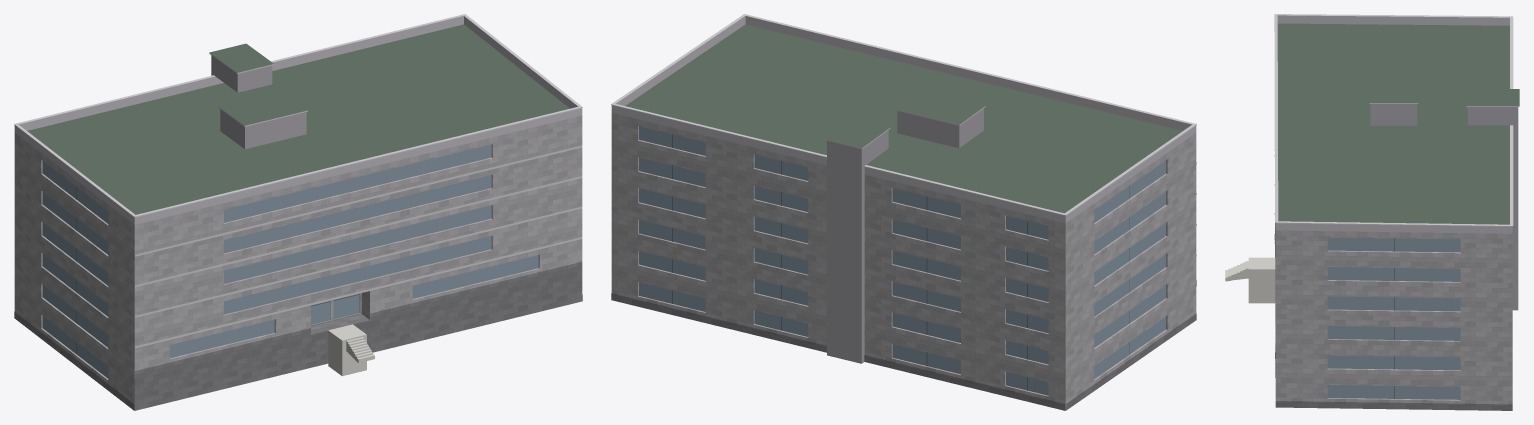
3 views of the same model, side by side, from view 1: azimuth 30°, elevation 25°; view 2: azimuth 150°, elevation 25°; view 3: azimuth 270°, elevation 25° (orthographic). The views are drawn at different scales.
Visible parts, largest first — view 1: b105__wall, b105__roof, b105__glass, b105__base, b105__parapet, b105__trim, b105__wall2, b105__entranceStair; view 2: b105__wall, b105__roof, b105__glass, b105__wall2, b105__parapet, b105__base, b105__trim; view 3: b105__roof, b105__wall, b105__glass, b105__parapet, b105__wall2, b105__trim, b105__base, b105__entranceStair.
Part boxes in pixels (left/top/right/bottom): b105__wall: left=14, top=115, right=582, bottom=410; b105__roof: left=27, top=24, right=580, bottom=410; b105__glass: left=42, top=144, right=538, bottom=378; b105__base: left=14, top=261, right=582, bottom=410; b105__parapet: left=14, top=16, right=582, bottom=224; b105__trim: left=14, top=14, right=582, bottom=348; b105__wall2: left=211, top=55, right=306, bottom=149; b105__entranceStair: left=328, top=324, right=374, bottom=376; b105__wall: left=611, top=113, right=1196, bottom=410; b105__roof: left=625, top=24, right=1182, bottom=213; b105__glass: left=639, top=126, right=1165, bottom=395; b105__wall2: left=827, top=108, right=983, bottom=363; b105__parapet: left=611, top=16, right=1196, bottom=223; b105__base: left=611, top=280, right=1196, bottom=410; b105__trim: left=611, top=14, right=1196, bottom=256; b105__roof: left=1277, top=23, right=1519, bottom=408; b105__wall: left=1275, top=222, right=1512, bottom=404; b105__glass: left=1327, top=237, right=1460, bottom=399; b105__parapet: left=1275, top=15, right=1512, bottom=233; b105__wall2: left=1370, top=104, right=1518, bottom=310; b105__trim: left=1274, top=14, right=1519, bottom=243; b105__base: left=1274, top=227, right=1512, bottom=410; b105__entranceStair: left=1225, top=257, right=1275, bottom=303.
Size of the model in its own units: 55.54 by 25.29 by 32.55.
Materials: 10 (2 with a texture image).
